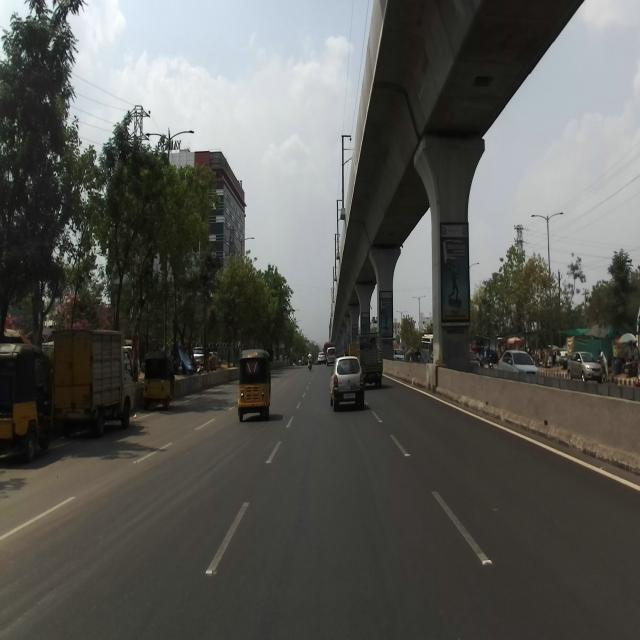autorickshaw: (0, 341, 60, 462), (236, 347, 273, 421)
car: (330, 354, 366, 410)
truck: (48, 329, 140, 436)
